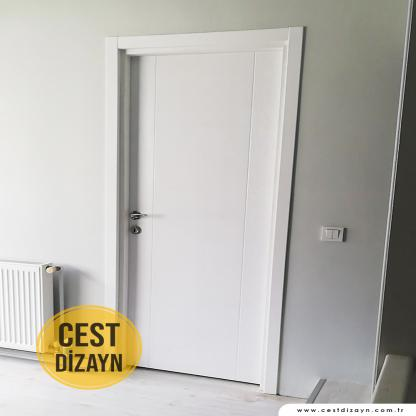door: (124, 46, 282, 387)
